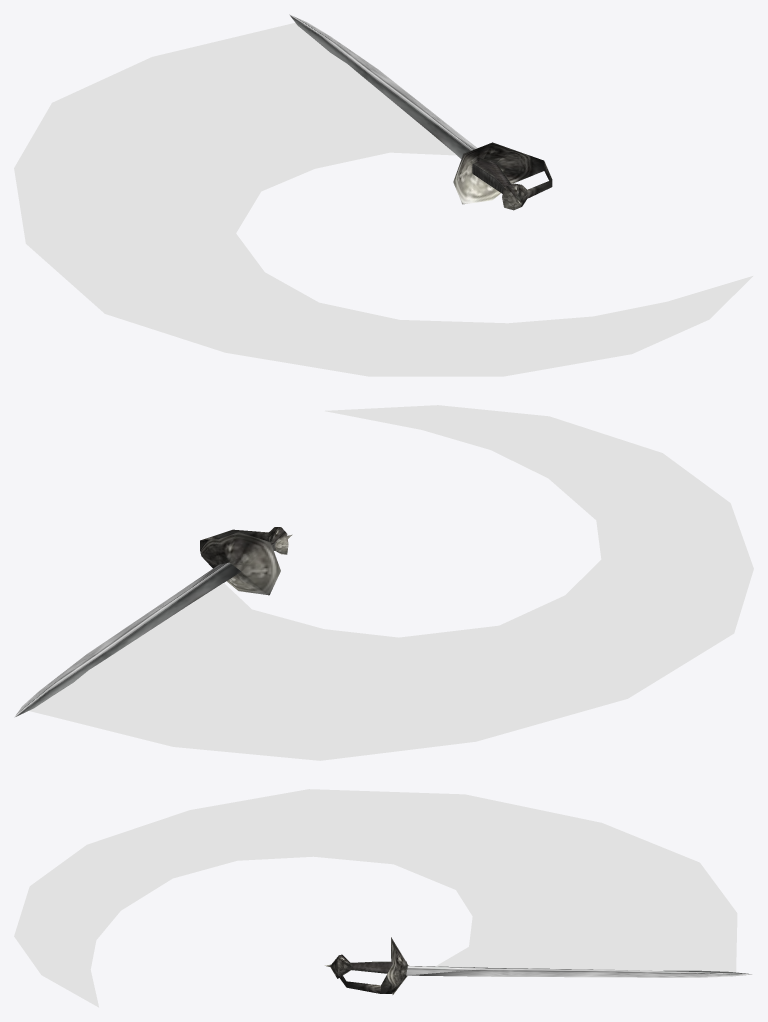
Rendered from cutlass_iron_high.fbx.
3 renders of one model, top to bottom at view 1: azimuth 30°, elevation 25°; view 2: azimuth 150°, elevation 25°; view 3: azimuth 270°, elevation 25°, orthographic. The views are drawn at different scales.
Visible parts, largest first — view 1: motion_blur, cutlass_iron_mesh; view 2: motion_blur, cutlass_iron_mesh; view 3: motion_blur, cutlass_iron_mesh.
Boxes of the visible parts, x1=… form: motion_blur: x1=14, y1=22, x2=752, y2=376; cutlass_iron_mesh: x1=289, y1=14, x2=552, y2=210; motion_blur: x1=29, y1=405, x2=753, y2=760; cutlass_iron_mesh: x1=14, y1=527, x2=292, y2=717; motion_blur: x1=14, y1=789, x2=737, y2=1007; cutlass_iron_mesh: x1=324, y1=937, x2=752, y2=994.
Size of the model in its own units: 396 by 41.75 by 567.
2 materials, 2 textured.
